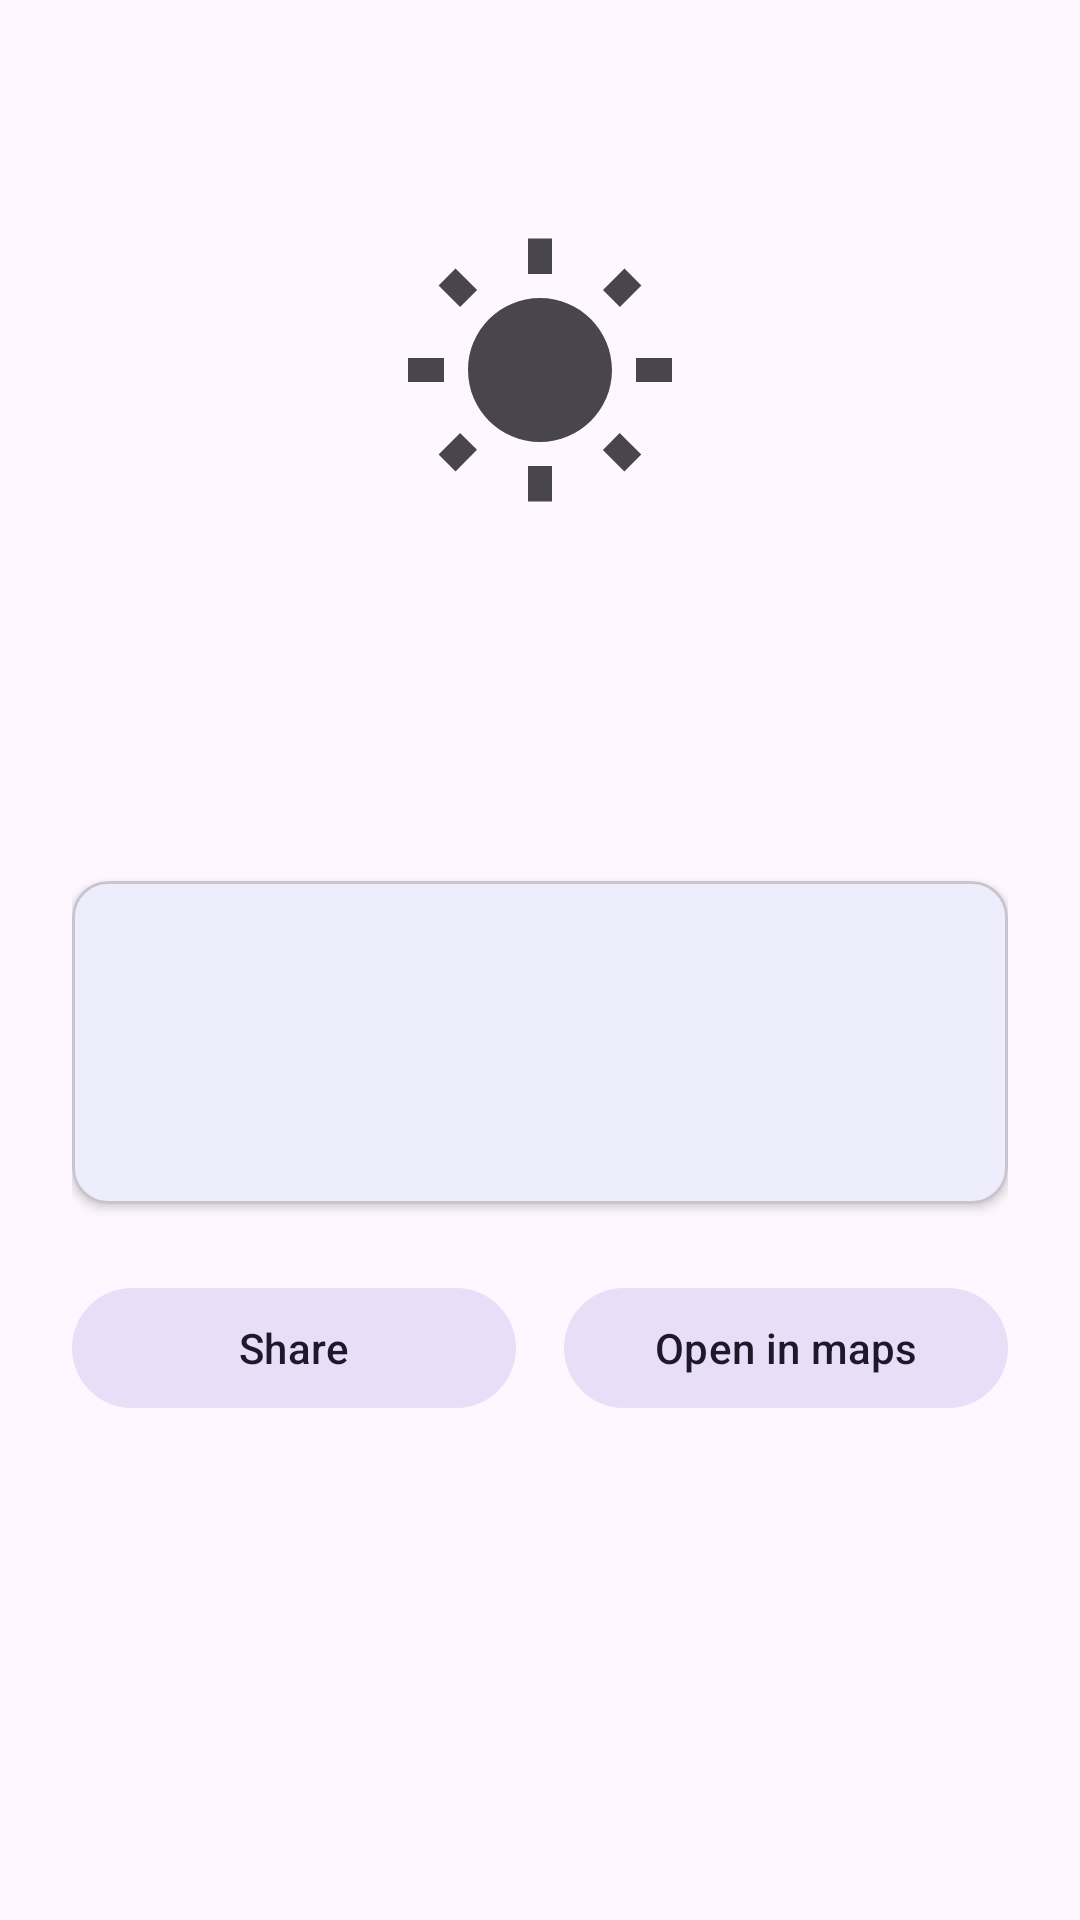

Locate icon controls on the screen. Image size 1080px x 1920px, boxes as (x1, y1, x2, y2).
Weather condition icon: (408, 238, 672, 502)
